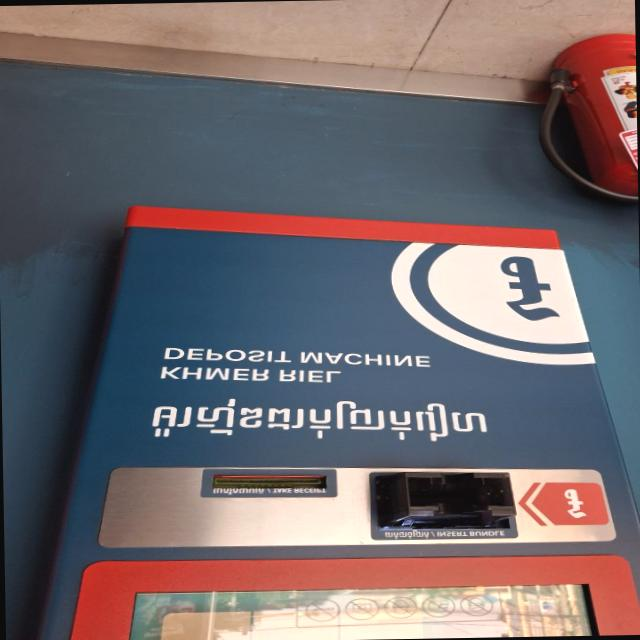Yolov11_80vkh: (111, 389, 510, 454)
